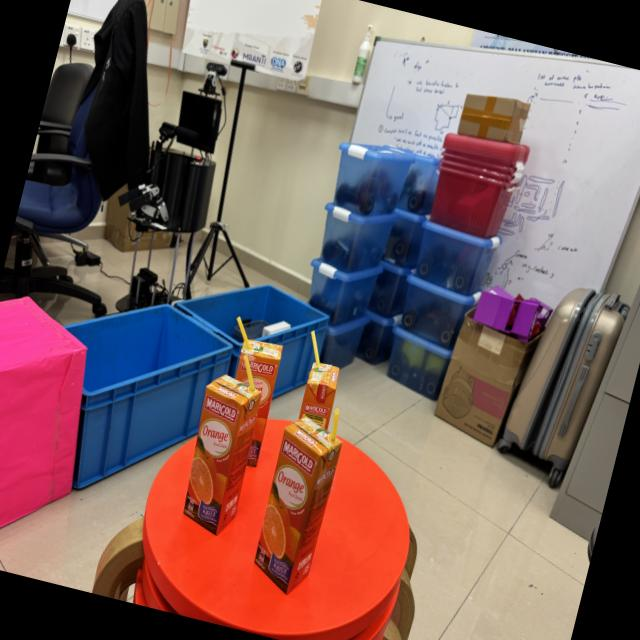drink_carton: (238, 393, 358, 604), (168, 336, 278, 544), (198, 306, 297, 478), (285, 326, 360, 439)
